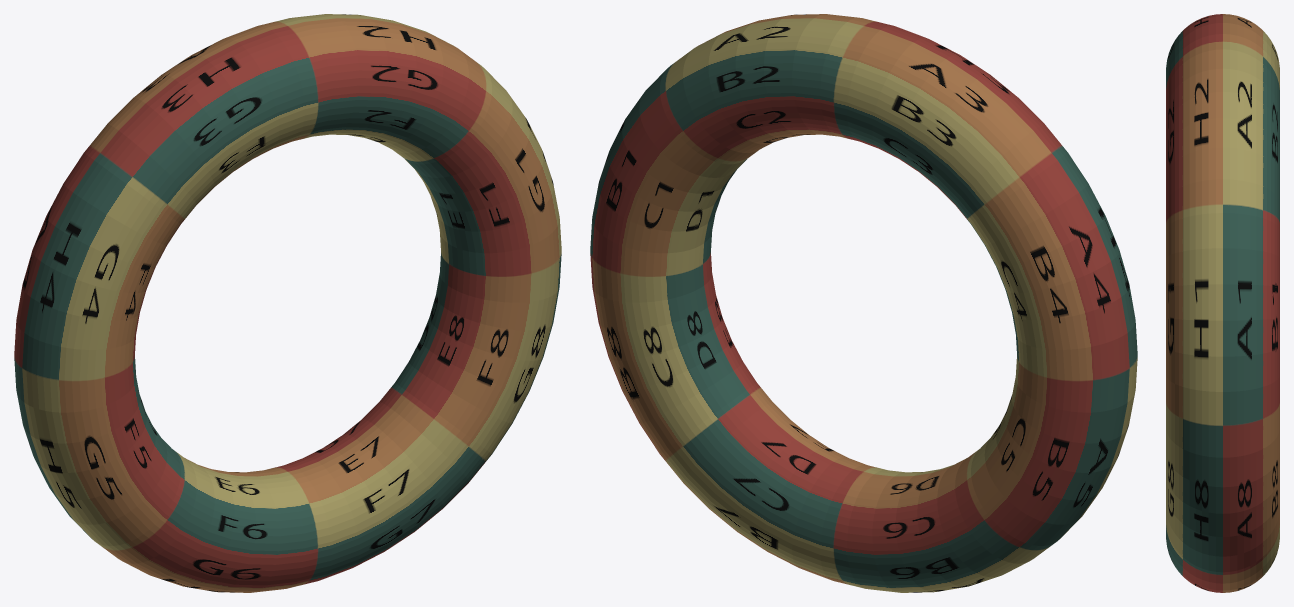
The model's file is texture_torus_R25_r17.glb.
3 views of the same model, side by side, from view 1: azimuth 30°, elevation 25°; view 2: azimuth 150°, elevation 25°; view 3: azimuth 270°, elevation 25° (orthographic). The views are drawn at different scales.
Parts seen in each view (by area): view 1: world; view 2: world; view 3: world.
Boxes of the visible parts, bbox=[...] form: world: bbox=[14, 14, 561, 592]; world: bbox=[590, 14, 1137, 592]; world: bbox=[1166, 14, 1279, 592].
Size of the model in its own units: 33.2 by 33.13 by 6.52.
1 material, 1 textured.
